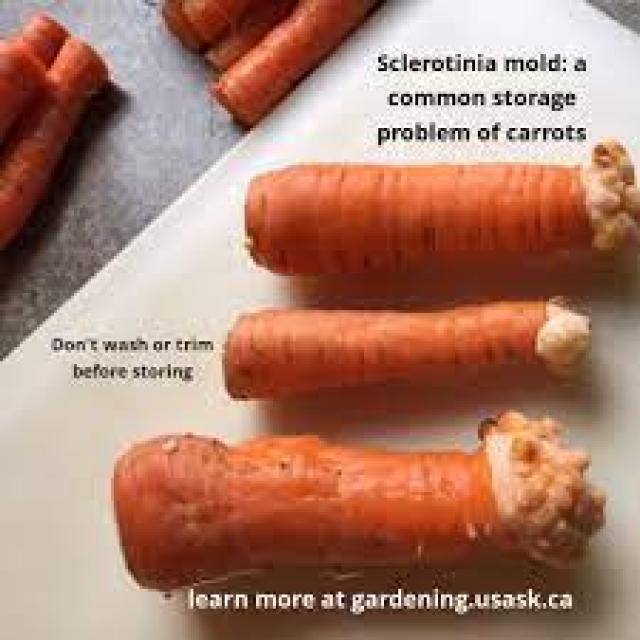Stale_Carrot: (248, 168, 588, 274), (226, 303, 546, 398)
